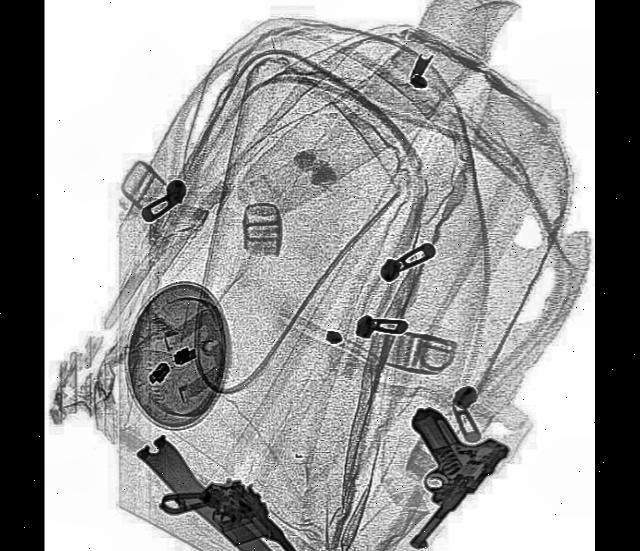Gun: (363, 368, 514, 551), (175, 440, 295, 551)
